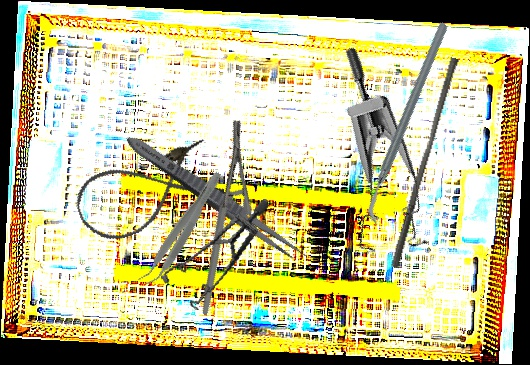Cannula: (68, 135, 228, 250)
Chopper: (305, 20, 511, 227)
Dressing Forceps: (120, 129, 311, 268)
Needle Holder: (144, 117, 297, 316)
Pusher: (390, 55, 460, 271)
Speculum: (268, 44, 463, 275), (149, 198, 288, 317)
Tissue Forceps: (136, 166, 227, 291)
